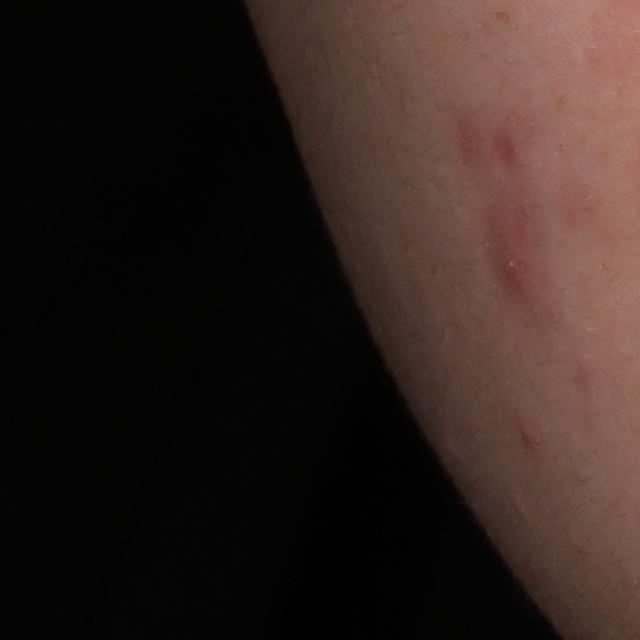papule: (490, 212, 534, 290), (500, 135, 528, 170), (517, 416, 537, 450)
